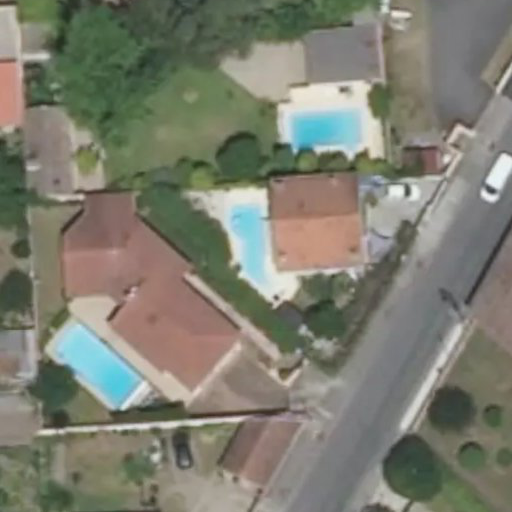pool: (58, 327, 140, 405), (231, 204, 265, 285), (290, 113, 361, 150)
